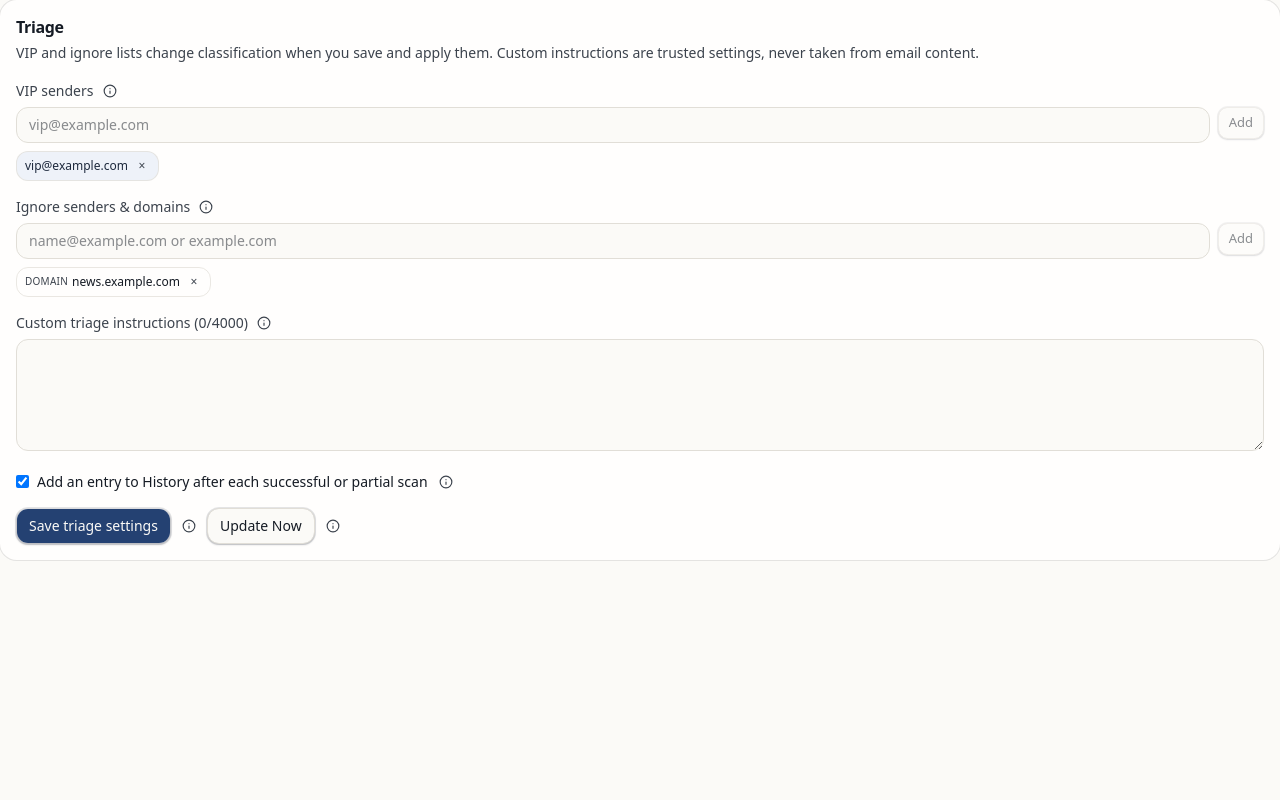
Test: TriagePreferencesForm › saves triage settings without starting a scan
Click the button "Save triage settings".
click(93, 526)  # box [16, 508, 171, 544]
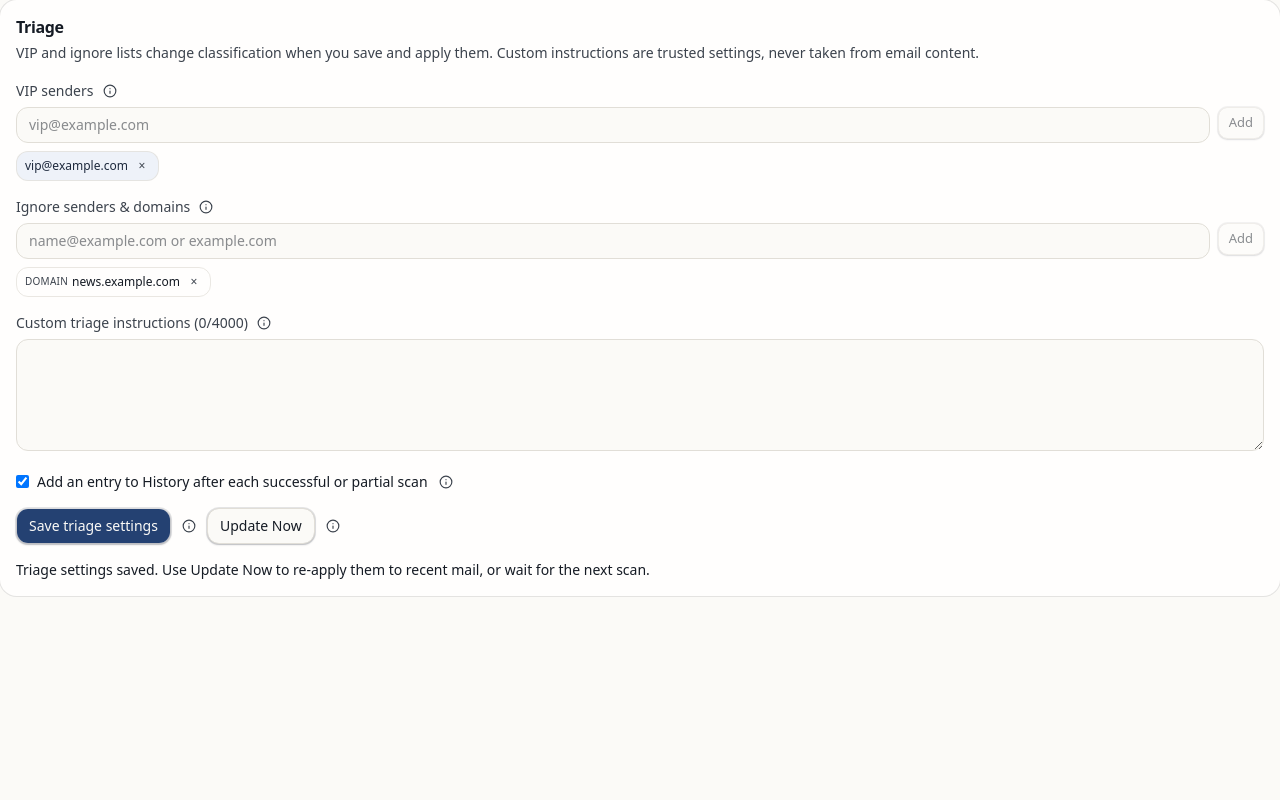
Check: the text "Triage settings saved. Use Update Now to re-apply them to recent mail, or wait for the next scan." is shown, box [16, 560, 650, 579]
